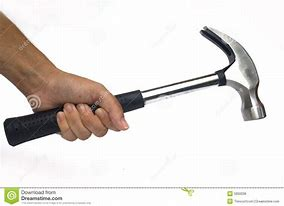hammer: (2, 24, 268, 148)
